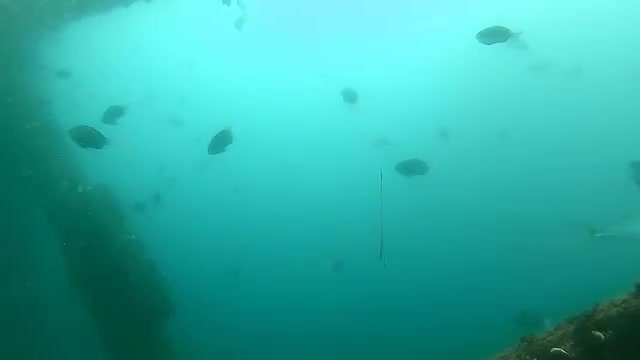smallfish: (476, 12, 525, 54), (391, 156, 452, 188), (202, 120, 244, 161), (68, 115, 112, 154), (342, 80, 371, 113)
